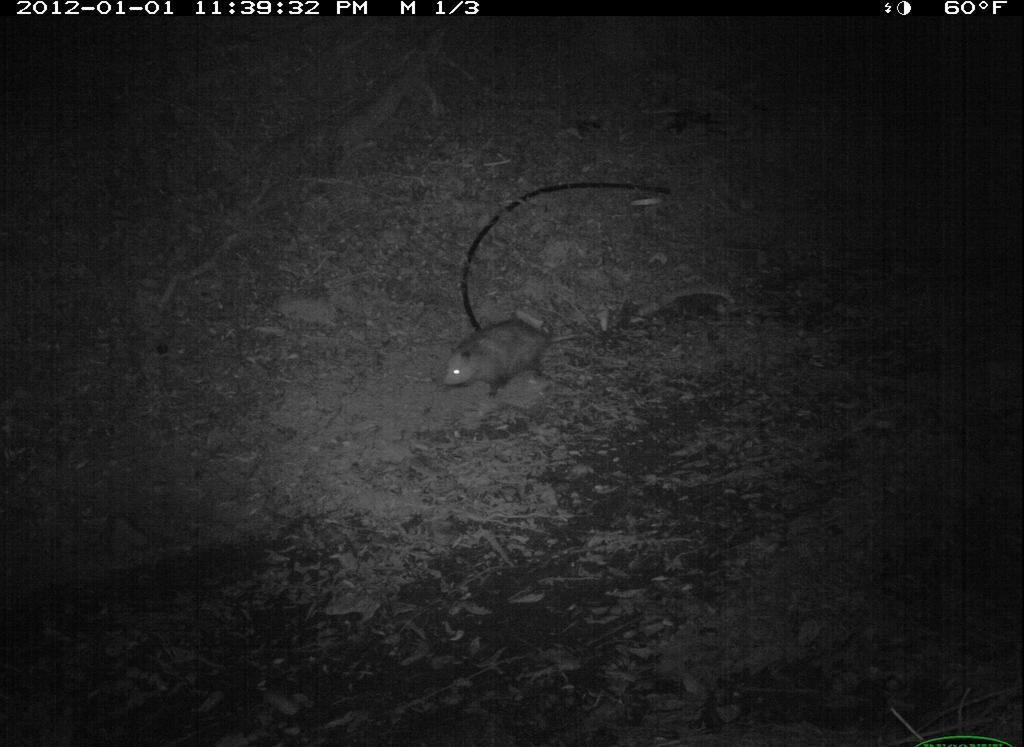opossum: (427, 310, 566, 395)
